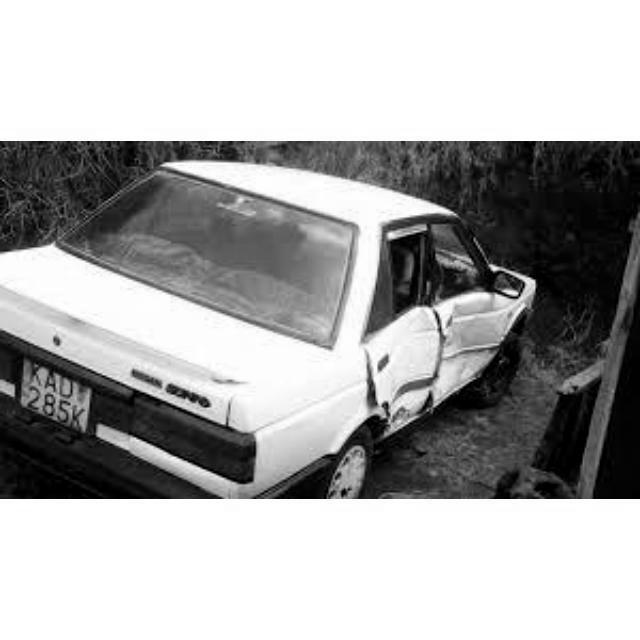doorouter-dent: (361, 320, 442, 424), (438, 289, 497, 395)
